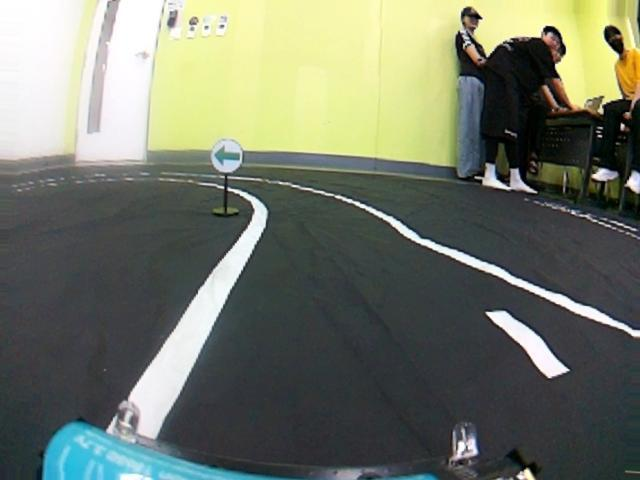sign_left: (206, 141, 240, 172)
straight: (120, 236, 622, 479)
